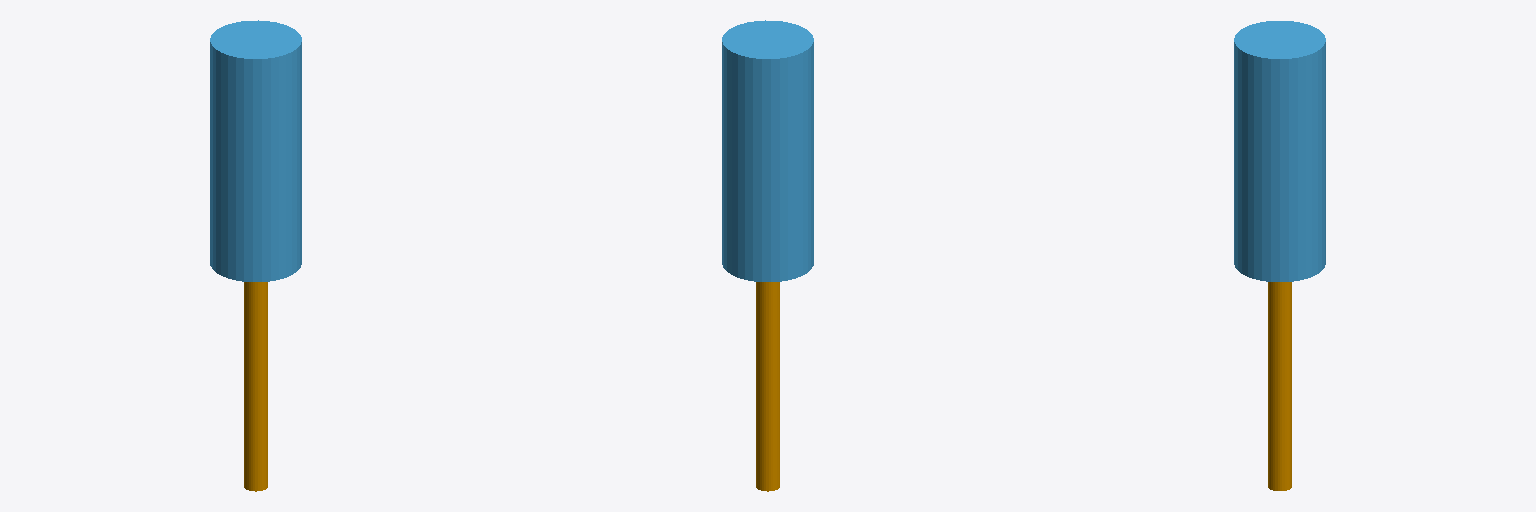
The robot description file, URDF, robot "screwdriver_on_the_table":
<?xml version="1.0" ?>
<!-- this is the one without any virtual joints and links -->
<robot name="screwdriver_on_the_table">
<link name="screwdriver_stick">
    <inertial>
      <mass value="0.05"/>
      <!-- <friction value="1.0"/> -->
      <inertia ixx="0.000041979" ixy="0.0" ixz="0.0" iyy="0.000041979" iyz="0.0" izz="0.000000625"/>
    </inertial>
    <visual>
        <origin rpy="0 0 0" xyz="0 0 0.05"/>
        <geometry>
            <cylinder radius="0.005" length="0.1"/>
        </geometry>
        <!-- <material name="White">
	 	    <color rgba="0.9 0.9 0.9 0.5"/>
        </material> -->
    </visual>
    <collision>
        <origin rpy="0 0 0" xyz="0 0 0.05"/>
        <geometry>
            <cylinder radius="0.005" length="0.1"/>
        </geometry>
    </collision>
</link>

<gazebo reference="screwdriver_body">
    <mu1>1.168023</mu1>
    <mu2>1.358860</mu2>
    <!-- Isaac Sim maps mu1/mu2 to PhysX static/dynamic friction during URDF→USD import -->
</gazebo>

<joint name="screwdriver_stick_body_joint" type="fixed">
    <parent link="screwdriver_stick"/>
    <child link="screwdriver_body"/>
    <origin rpy="0 0 0" xyz="0 0 0.1"/> 
    <axis xyz="0 0 1"/>
</joint>

<link name="screwdriver_body">
    <inertial>
      <mass value="0.130885"/>
      <inertia ixx="0.000120444" ixy="0.0" ixz="0.0" iyy="0.000120444" iyz="0.0" izz="0.000022746"/>
    </inertial>
    <visual>
        <origin rpy="0 0 0" xyz="0 0 0.05"/>
        <geometry>
            <cylinder radius="0.018643" length="0.1"/>
        </geometry>
        <!-- <material name="Red1">
	 	    <color rgba="0.9 0. 0. 0.5"/>
        </material> -->
    </visual>
    <collision>
        <origin rpy="0 0 0" xyz="0 0 0.05"/>
        <geometry>
            <cylinder radius="0.018643" length="0.1"/>
        </geometry>
    </collision>
</link>

<!-- <joint name="screwdriver_body_cap_joint" type="revolute">
    <parent link="screwdriver_body"/>
    <child link="screwdriver_cap"/>
    <origin rpy="0 0 0" xyz="0 0 0.1"/> 
    <axis xyz="0 0 1"/>
</joint>

<link name="screwdriver_cap">
    <inertial>
      <mass value="0.005"/>
      <inertia ixx="0.00001" ixy="0.0" ixz="0.0" iyy="0.000005" iyz="0.0" izz="0.000005"/>
    </inertial>
    <visual>
        <origin rpy="0 0 0" xyz="0 0 0.0006"/>
        <geometry>
            <cylinder radius="0.02" length="0.001"/>
        </geometry>
        <material name="Yellow">
	 	    <color rgba="0.9 0.9 0. 1.0"/>
        </material>
    </visual>
    <collision>
        <origin rpy="0 0 0" xyz="0 0 0.0005"/>
        <geometry>
            <cylinder radius="0.02" length="0.001"/>
        </geometry>
    </collision>
</link> -->

</robot>

--- Facts derived from the render (not from the file) ---
The picture shows the robot from 3 angles, left to right: view 1: azimuth 30°, elevation 25°; view 2: azimuth 150°, elevation 25°; view 3: azimuth 270°, elevation 25°; orthographic projection.
Robot: screwdriver_on_the_table — 2 links, 1 joints (1 fixed); root link screwdriver_stick; default pose: every joint at zero.
Links seen in each view (by area): view 1: screwdriver_body, screwdriver_stick; view 2: screwdriver_body, screwdriver_stick; view 3: screwdriver_body, screwdriver_stick.
Link boxes in pixels (box(x1,y1,x2,y2)): screwdriver_body: box(210, 20, 301, 281); screwdriver_stick: box(244, 282, 267, 491); screwdriver_body: box(722, 20, 813, 281); screwdriver_stick: box(756, 282, 779, 491); screwdriver_body: box(1234, 21, 1325, 281); screwdriver_stick: box(1268, 282, 1291, 490).
Bounding box of the posed robot: 0.0373 × 0.0373 × 0.2 m (x, y, z).
Geometry: primitives only (box / cylinder / sphere), no mesh files.
